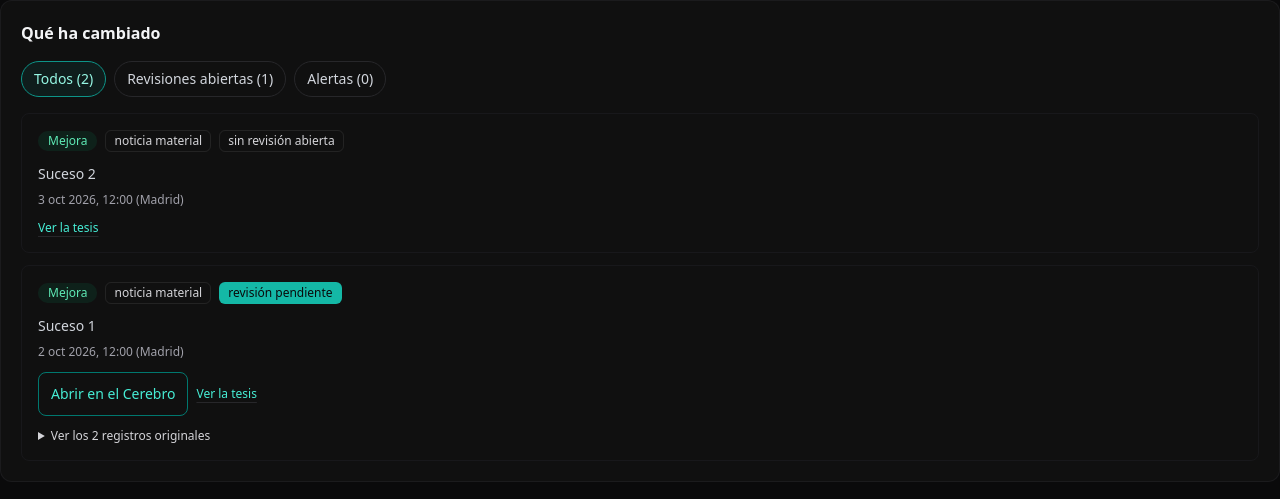
Test: ChangesFeed › «Revisiones abiertas» es un filtro y conserva el registro original dentro
Click the button "Revisiones abiertas (1)" at [200, 79], box [114, 61, 286, 97]
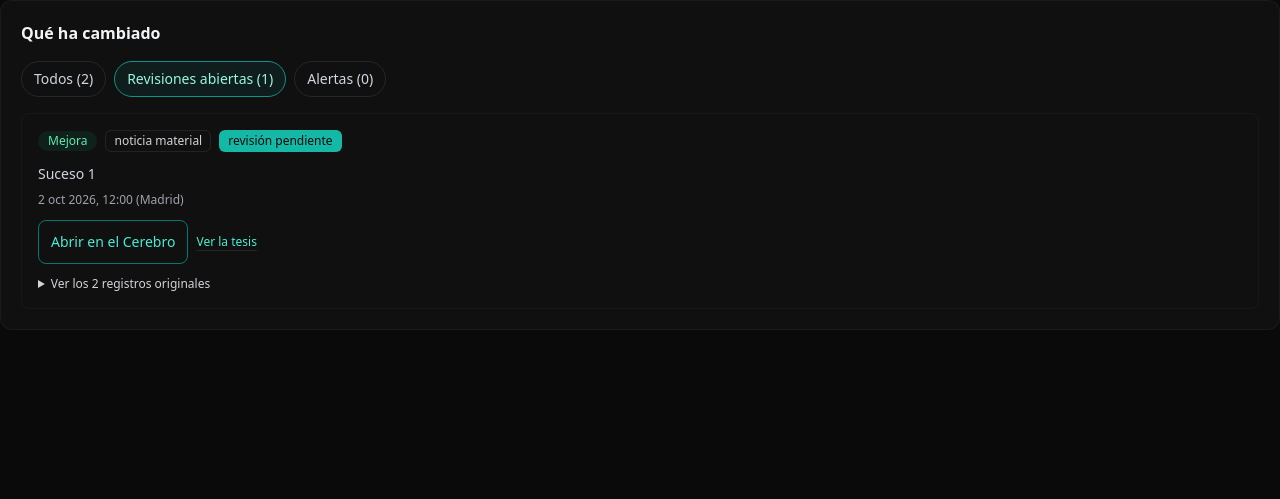
Expected: the button "Abrir en el Cerebro" is shown, [38, 220, 188, 264]
Expected: the number of list items with test id "change-event" is 1, [21, 113, 1259, 309]
